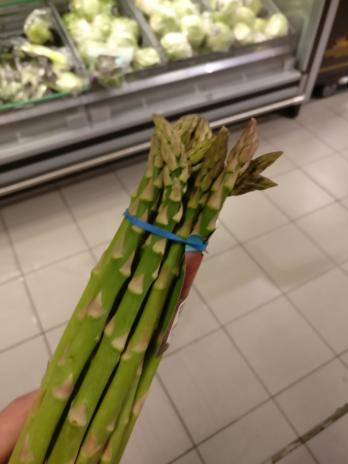Asparagus: (12, 104, 275, 464)
